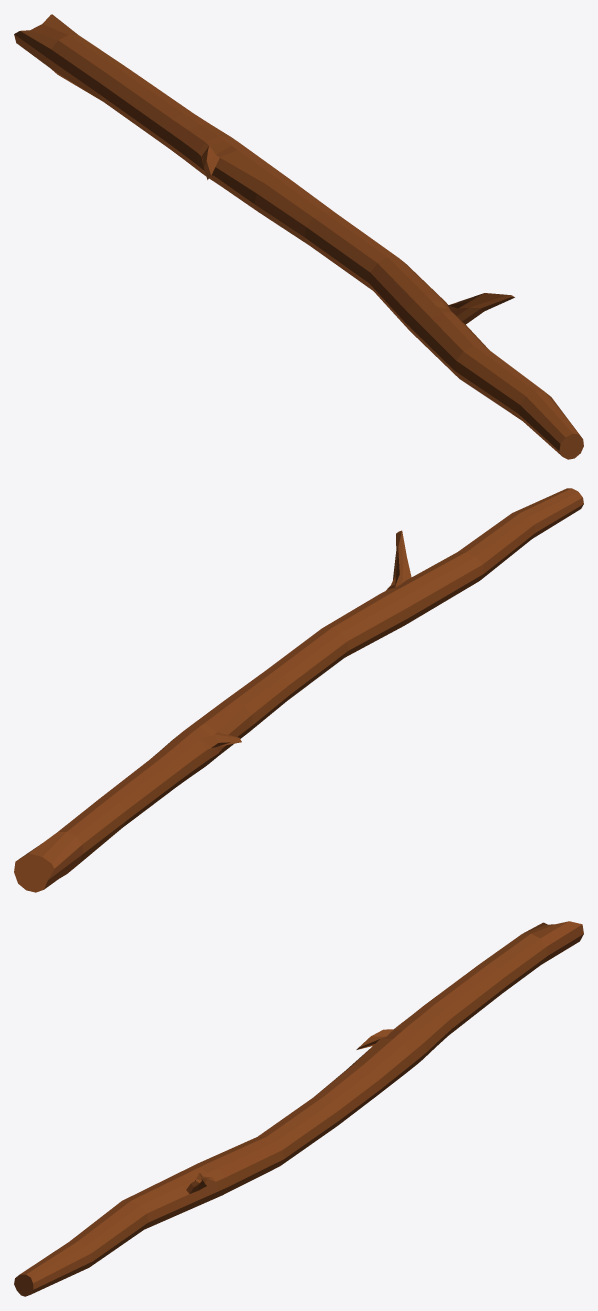
The model's file is Stock2.fbx.
3 renders of one model, top to bottom at view 1: azimuth 30°, elevation 25°; view 2: azimuth 150°, elevation 25°; view 3: azimuth 330°, elevation 25°, orthographic. The views are drawn at different scales.
Parts seen in each view (by area): view 1: Cylinder; view 2: Cylinder; view 3: Cylinder.
Part boxes in pixels (box(x1,y1,x2,y2)): Cylinder: box(14, 14, 583, 459); Cylinder: box(14, 488, 583, 892); Cylinder: box(14, 921, 583, 1296).
Size of the model in its own units: 6.37 by 5.41 by 77.41.
